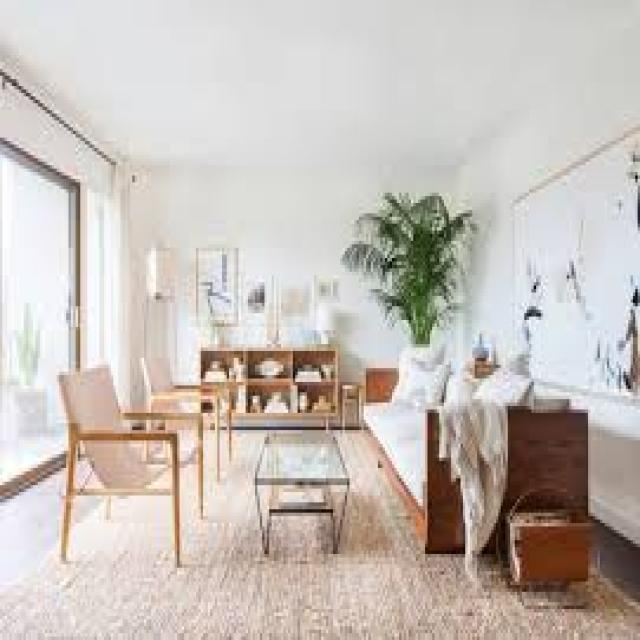Chair: (25, 341, 191, 570), (140, 340, 235, 464)
Lamp: (128, 232, 180, 347)
Sofa: (343, 350, 583, 560)
Table: (257, 412, 357, 563)
